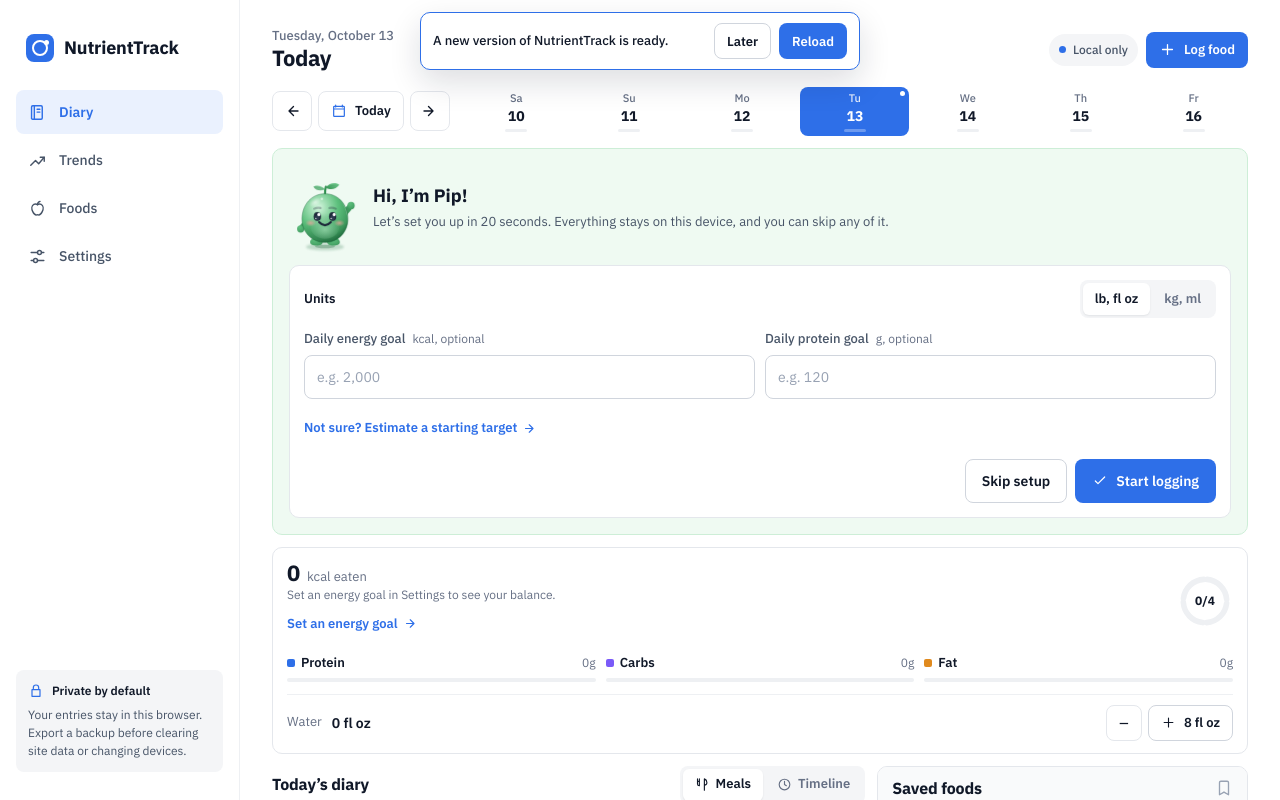
update banner dismissal and timing › hides_when_Later_is_pressed
Expected: the text "A new version of NutrientTrack is ready." is shown, 433,32 -> 669,50
What coordinates should you click on to do the following:
click the button "Later"
I would click on:
 (742, 41)
Its box is 714,23 -> 771,59.
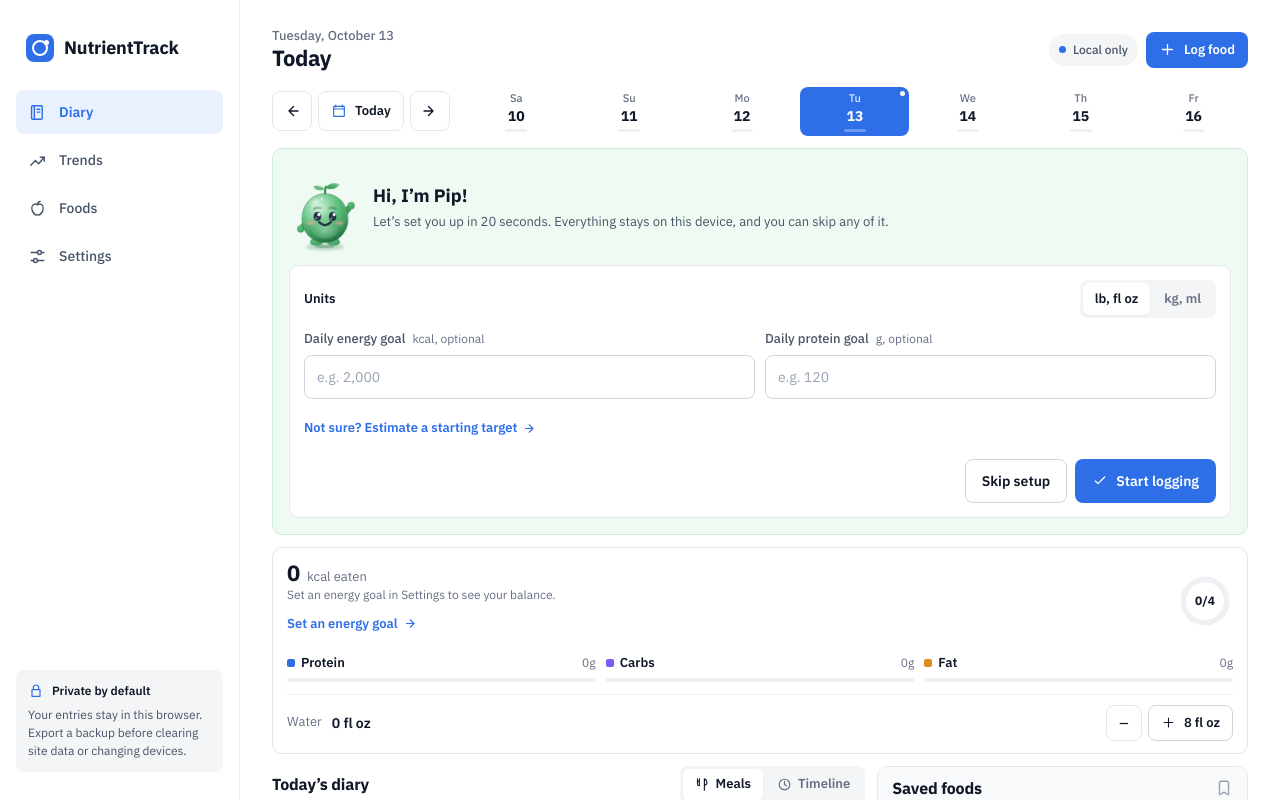
Now the text "A new version of NutrientTrack is ready." is gone
